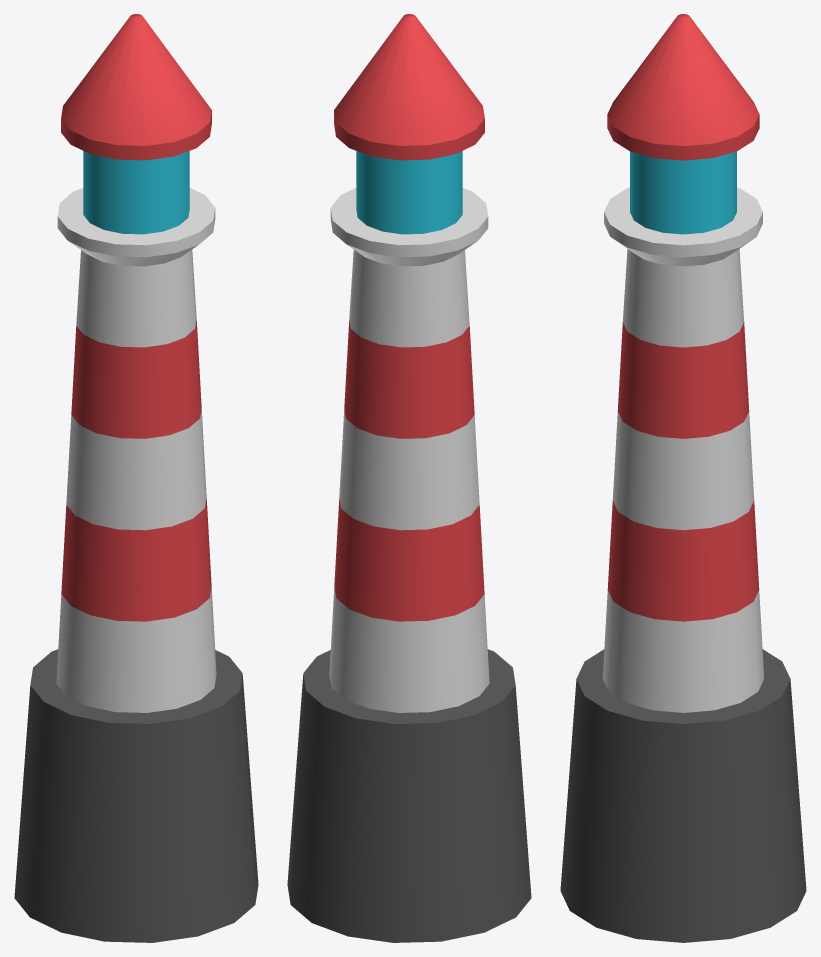
Rendered from light_house.fbx.
The picture shows the model from 3 angles, left to right: view 1: azimuth 30°, elevation 25°; view 2: azimuth 150°, elevation 25°; view 3: azimuth 270°, elevation 25°; orthographic projection.
Parts seen in each view (by area): view 1: Lighthouse; view 2: Lighthouse; view 3: Lighthouse.
Boxes of the visible parts, x1,y1,x2,y2 form: Lighthouse: (14, 14, 258, 942); Lighthouse: (287, 14, 531, 942); Lighthouse: (560, 14, 806, 942).
Bounding box in the file's own units: 500 × 1959 × 500.
